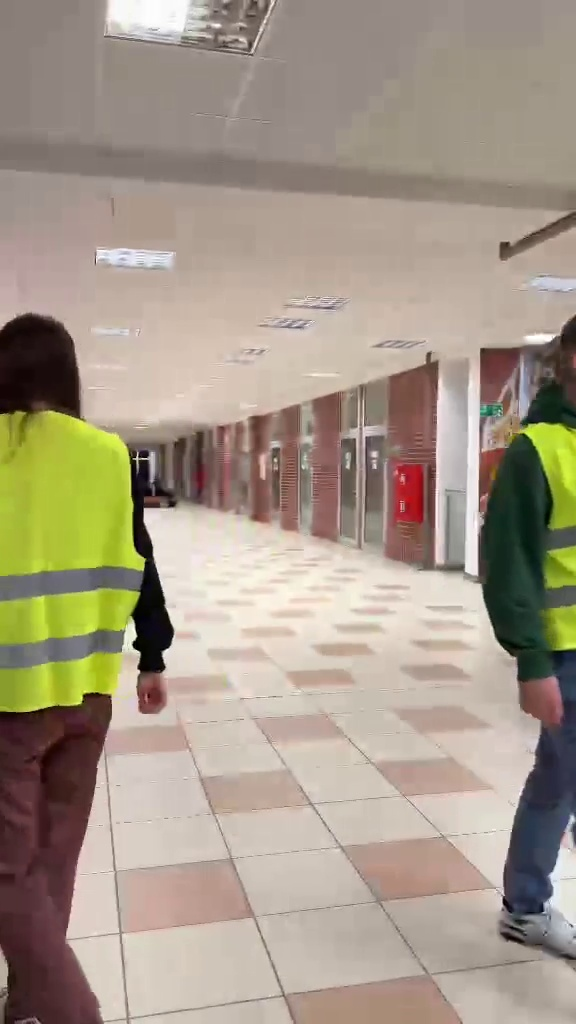vest: (3, 309, 168, 996), (482, 308, 576, 961)
